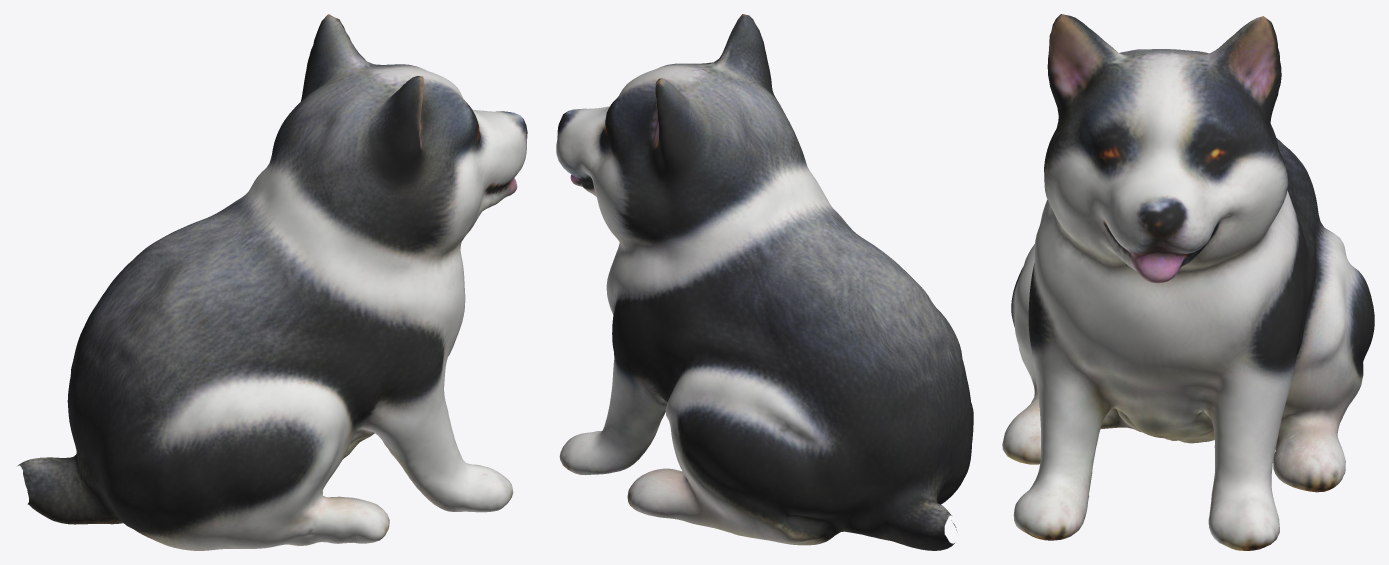
The model's file is shiba.glb.
3 views of the same model, side by side, from view 1: azimuth 30°, elevation 25°; view 2: azimuth 150°, elevation 25°; view 3: azimuth 270°, elevation 25° (orthographic). The views are drawn at different scales.
Parts seen in each view (by area): view 1: Mesh1; view 2: Mesh1; view 3: Mesh1.
Part boxes in pixels (bbox=[...]): Mesh1: bbox=[18, 14, 527, 550]; Mesh1: bbox=[556, 14, 973, 550]; Mesh1: bbox=[1002, 14, 1374, 550].
Bounding box in the file's own units: 1.2 × 1.13 × 0.7629.
Materials: 1 (1 with a texture image).
